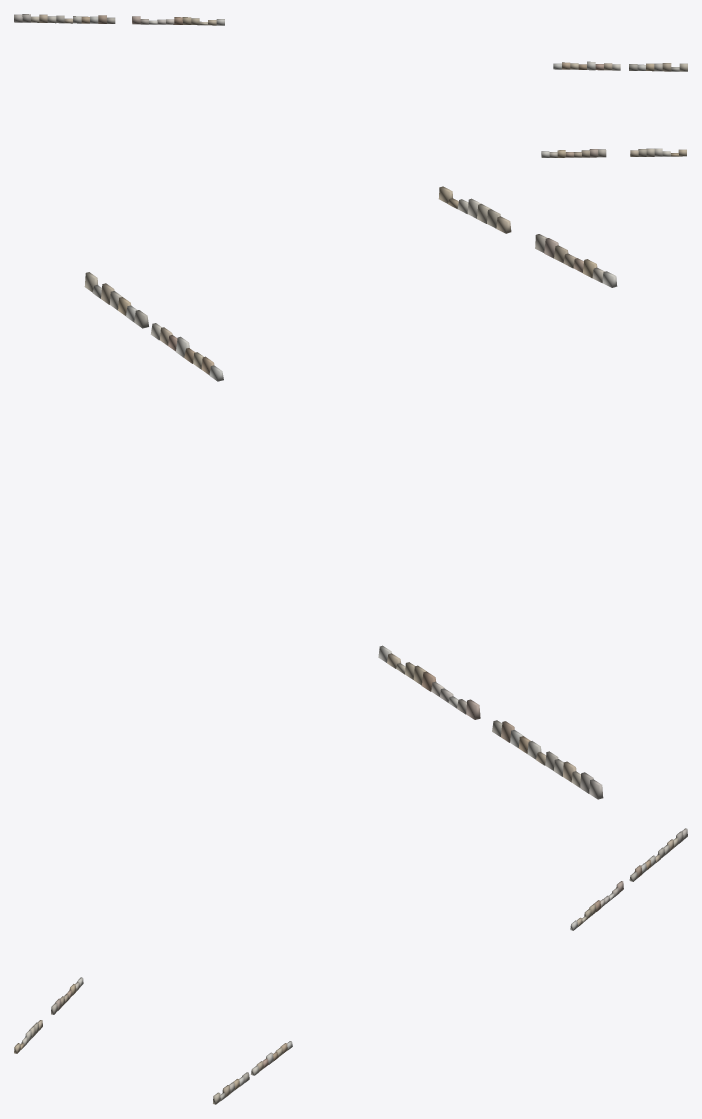
File: farm_13_13_collision.glb
3 renders of one model, top to bottom at view 1: azimuth 30°, elevation 25°; view 2: azimuth 150°, elevation 25°; view 3: azimuth 270°, elevation 25°, orthographic. The views are drawn at different scales.
Parts seen in each view (by area): view 1: geometry_0; view 2: geometry_0; view 3: geometry_0.
Part boxes in pixels (x1,y1,x2,y2): geometry_0: (14, 14, 687, 157); geometry_0: (84, 186, 617, 799); geometry_0: (14, 828, 687, 1104).
Size of the model in its own units: 101 by 3.59 by 112.
